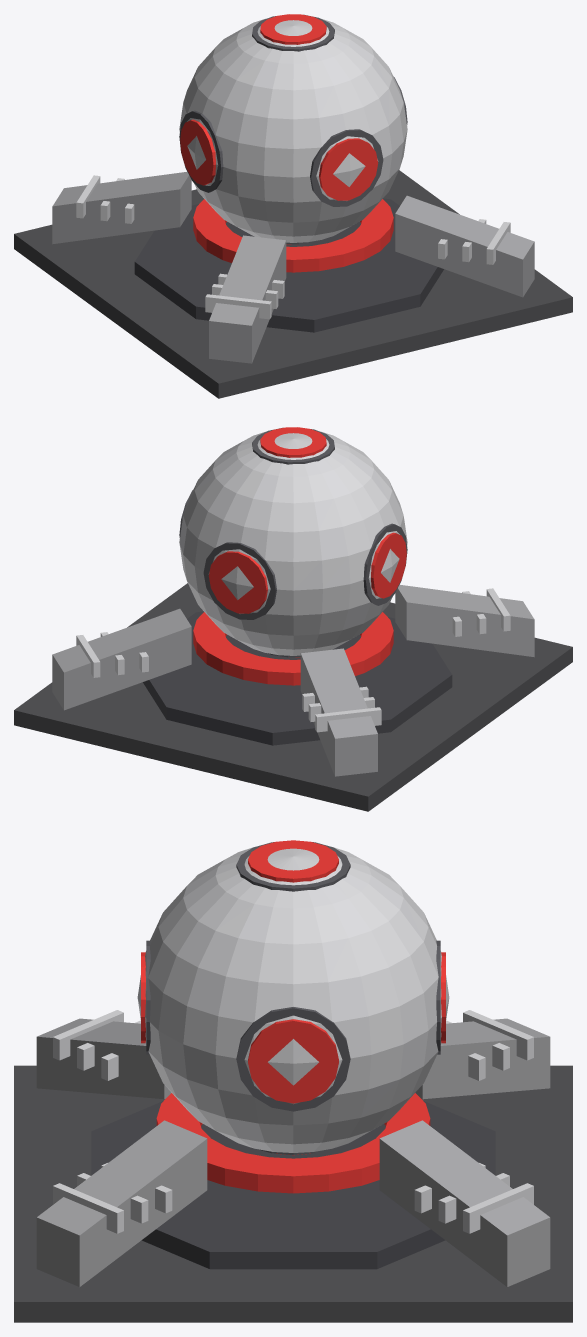
Rendered from vge_e_grav_field_amplifier.obj.
3 renders of one model, top to bottom at view 1: azimuth 30°, elevation 25°; view 2: azimuth 150°, elevation 25°; view 3: azimuth 270°, elevation 25°, orthographic. The views are drawn at different scales.
Visible parts, largest first — view 1: vge_grav_field_amplifier_19, vge_grav_field_amplifier_0, vge_grav_field_amplifier_1, vge_grav_field_amplifier_14, vge_grav_field_amplifier_6, vge_grav_field_amplifier_10, vge_grav_field_amplifier_18, vge_grav_field_amplifier_29, vge_grav_field_amplifier_31, vge_grav_field_amplifier_28, vge_grav_field_amplifier_21, vge_grav_field_amplifier_30 (+2 smaller); view 2: vge_grav_field_amplifier_19, vge_grav_field_amplifier_0, vge_grav_field_amplifier_1, vge_grav_field_amplifier_2, vge_grav_field_amplifier_10, vge_grav_field_amplifier_6, vge_grav_field_amplifier_18, vge_grav_field_amplifier_25, vge_grav_field_amplifier_31, vge_grav_field_amplifier_24, vge_grav_field_amplifier_21, vge_grav_field_amplifier_30 (+2 smaller); view 3: vge_grav_field_amplifier_19, vge_grav_field_amplifier_0, vge_grav_field_amplifier_1, vge_grav_field_amplifier_2, vge_grav_field_amplifier_14, vge_grav_field_amplifier_18, vge_grav_field_amplifier_6, vge_grav_field_amplifier_10, vge_grav_field_amplifier_27, vge_grav_field_amplifier_26, vge_grav_field_amplifier_21, vge_grav_field_amplifier_20 (+4 smaller).
Part boxes in pixels (x1=…): vge_grav_field_amplifier_19: x1=179, y1=18, x2=407, y2=242; vge_grav_field_amplifier_0: x1=14, y1=170, x2=572, y2=398; vge_grav_field_amplifier_1: x1=134, y1=198, x2=443, y2=332; vge_grav_field_amplifier_14: x1=395, y1=195, x2=534, y2=297; vge_grav_field_amplifier_6: x1=52, y1=172, x2=191, y2=244; vge_grav_field_amplifier_10: x1=209, y1=235, x2=286, y2=363; vge_grav_field_amplifier_18: x1=193, y1=199, x2=393, y2=272; vge_grav_field_amplifier_29: x1=319, y1=138, x2=378, y2=200; vge_grav_field_amplifier_31: x1=180, y1=119, x2=215, y2=185; vge_grav_field_amplifier_28: x1=310, y1=129, x2=383, y2=206; vge_grav_field_amplifier_21: x1=260, y1=14, x2=326, y2=44; vge_grav_field_amplifier_30: x1=179, y1=110, x2=223, y2=192; vge_grav_field_amplifier_19: x1=179, y1=431, x2=407, y2=655; vge_grav_field_amplifier_0: x1=14, y1=583, x2=572, y2=811; vge_grav_field_amplifier_1: x1=143, y1=611, x2=452, y2=745; vge_grav_field_amplifier_2: x1=52, y1=608, x2=191, y2=710; vge_grav_field_amplifier_10: x1=395, y1=585, x2=534, y2=657; vge_grav_field_amplifier_6: x1=300, y1=648, x2=377, y2=776; vge_grav_field_amplifier_18: x1=193, y1=612, x2=393, y2=685; vge_grav_field_amplifier_25: x1=208, y1=551, x2=267, y2=613; vge_grav_field_amplifier_31: x1=371, y1=532, x2=406, y2=598; vge_grav_field_amplifier_24: x1=203, y1=542, x2=276, y2=619; vge_grav_field_amplifier_21: x1=260, y1=427, x2=326, y2=457; vge_grav_field_amplifier_30: x1=363, y1=523, x2=407, y2=605; vge_grav_field_amplifier_19: x1=137, y1=846, x2=449, y2=1152; vge_grav_field_amplifier_0: x1=14, y1=1065, x2=572, y2=1322; vge_grav_field_amplifier_1: x1=91, y1=1101, x2=495, y2=1269; vge_grav_field_amplifier_2: x1=379, y1=1120, x2=550, y2=1286; vge_grav_field_amplifier_14: x1=36, y1=1120, x2=207, y2=1286; vge_grav_field_amplifier_18: x1=156, y1=1093, x2=430, y2=1193; vge_grav_field_amplifier_6: x1=415, y1=1018, x2=550, y2=1099; vge_grav_field_amplifier_10: x1=36, y1=1018, x2=171, y2=1099; vge_grav_field_amplifier_27: x1=248, y1=1019, x2=338, y2=1103; vge_grav_field_amplifier_26: x1=236, y1=1007, x2=350, y2=1111; vge_grav_field_amplifier_21: x1=248, y1=840, x2=338, y2=882; vge_grav_field_amplifier_20: x1=236, y1=842, x2=350, y2=891.
Bounding box in the file's own units: 2.94 × 2.02 × 2.94.
